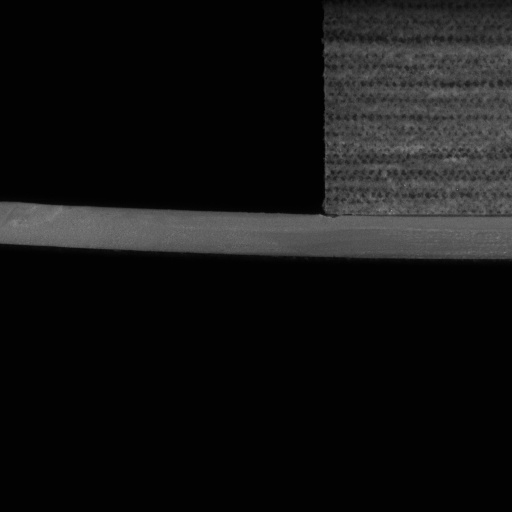changdai: (0, 199, 327, 261)
